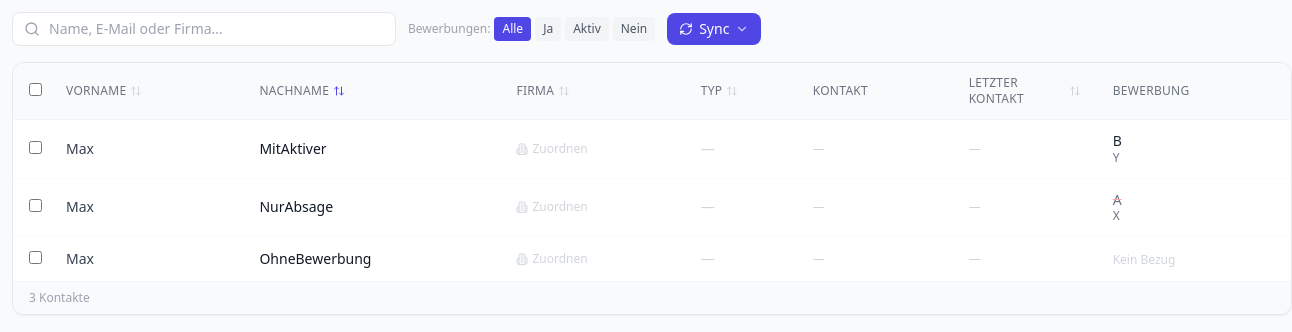
Test: Applications-Filter "Aktiv" (Kontakte) › positiv: "Aktiv" zeigt nur Kontakte mit mindestens einer nicht abgesagten Bewerbung
Expected: the text "NurAbsage" is shown, [259,197,333,216]
Click the button "Aktiv".
click(587, 29)  # box [565,17,609,41]
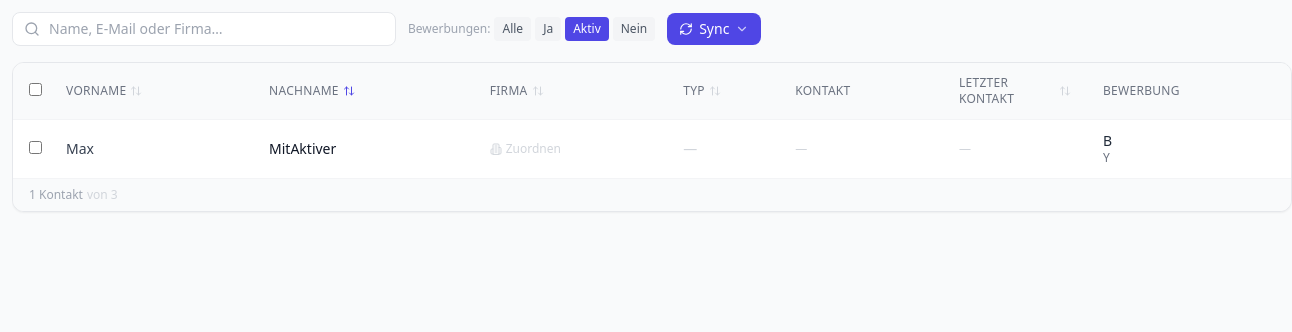
Expected: the text "MitAktiver" is shown, [269,139,336,158]
Expected: the text "NurAbsage" is gone
Expected: the text "OhneBewerbung" is gone
